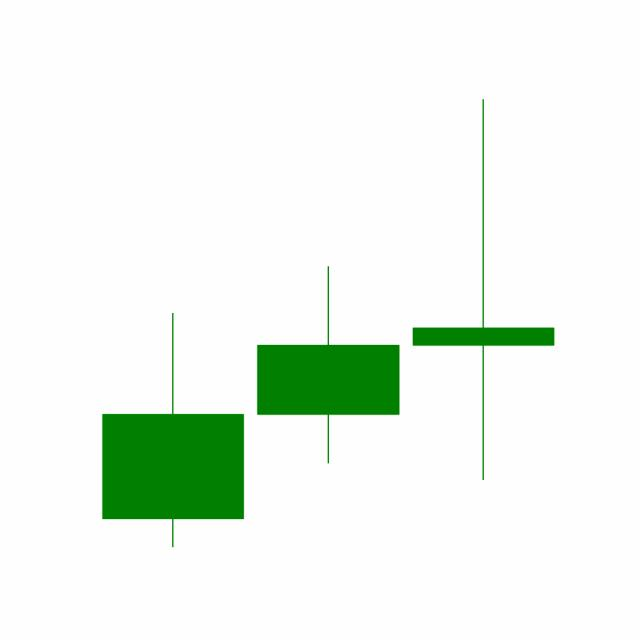Spinning Top: (405, 94, 561, 484)
